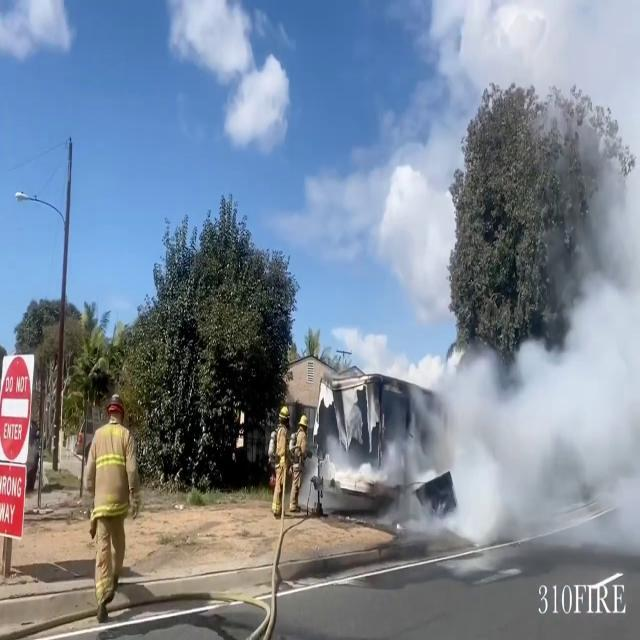Smoke: (392, 73, 640, 562)
